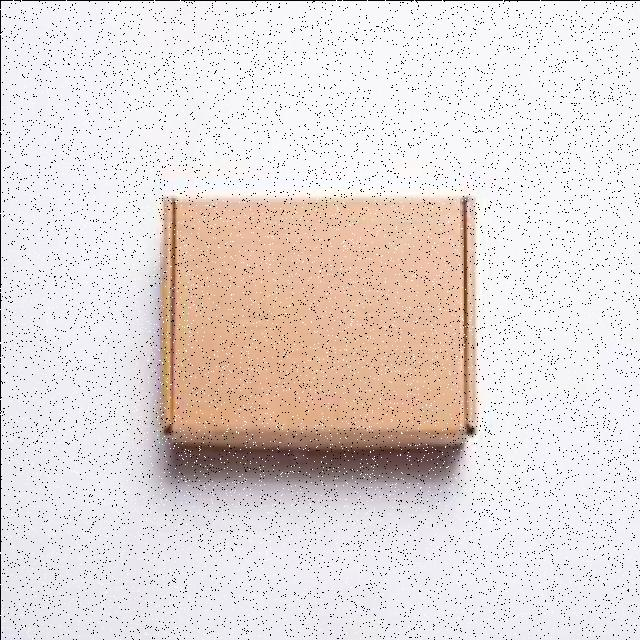normal: (151, 187, 483, 458)
